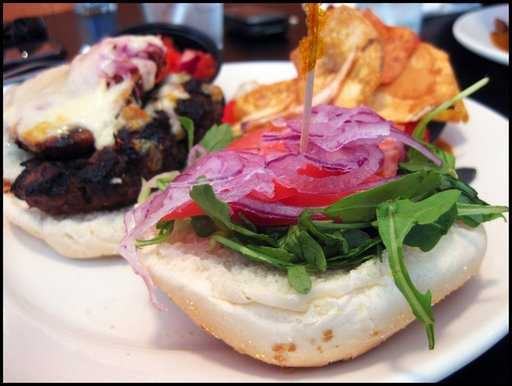hamburger: (2, 46, 494, 373)
